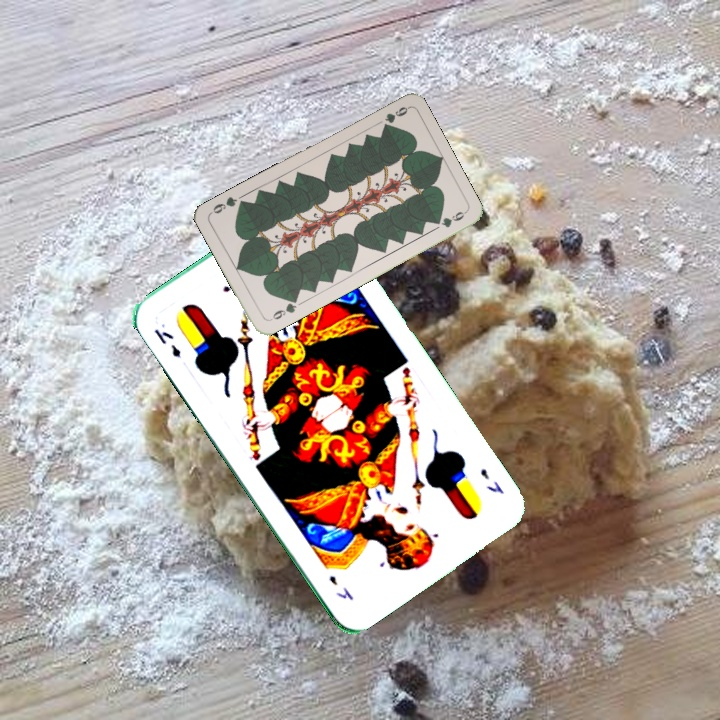EK: (150, 325, 184, 361), (476, 464, 506, 497)
G9: (265, 294, 300, 324), (379, 102, 411, 131)
